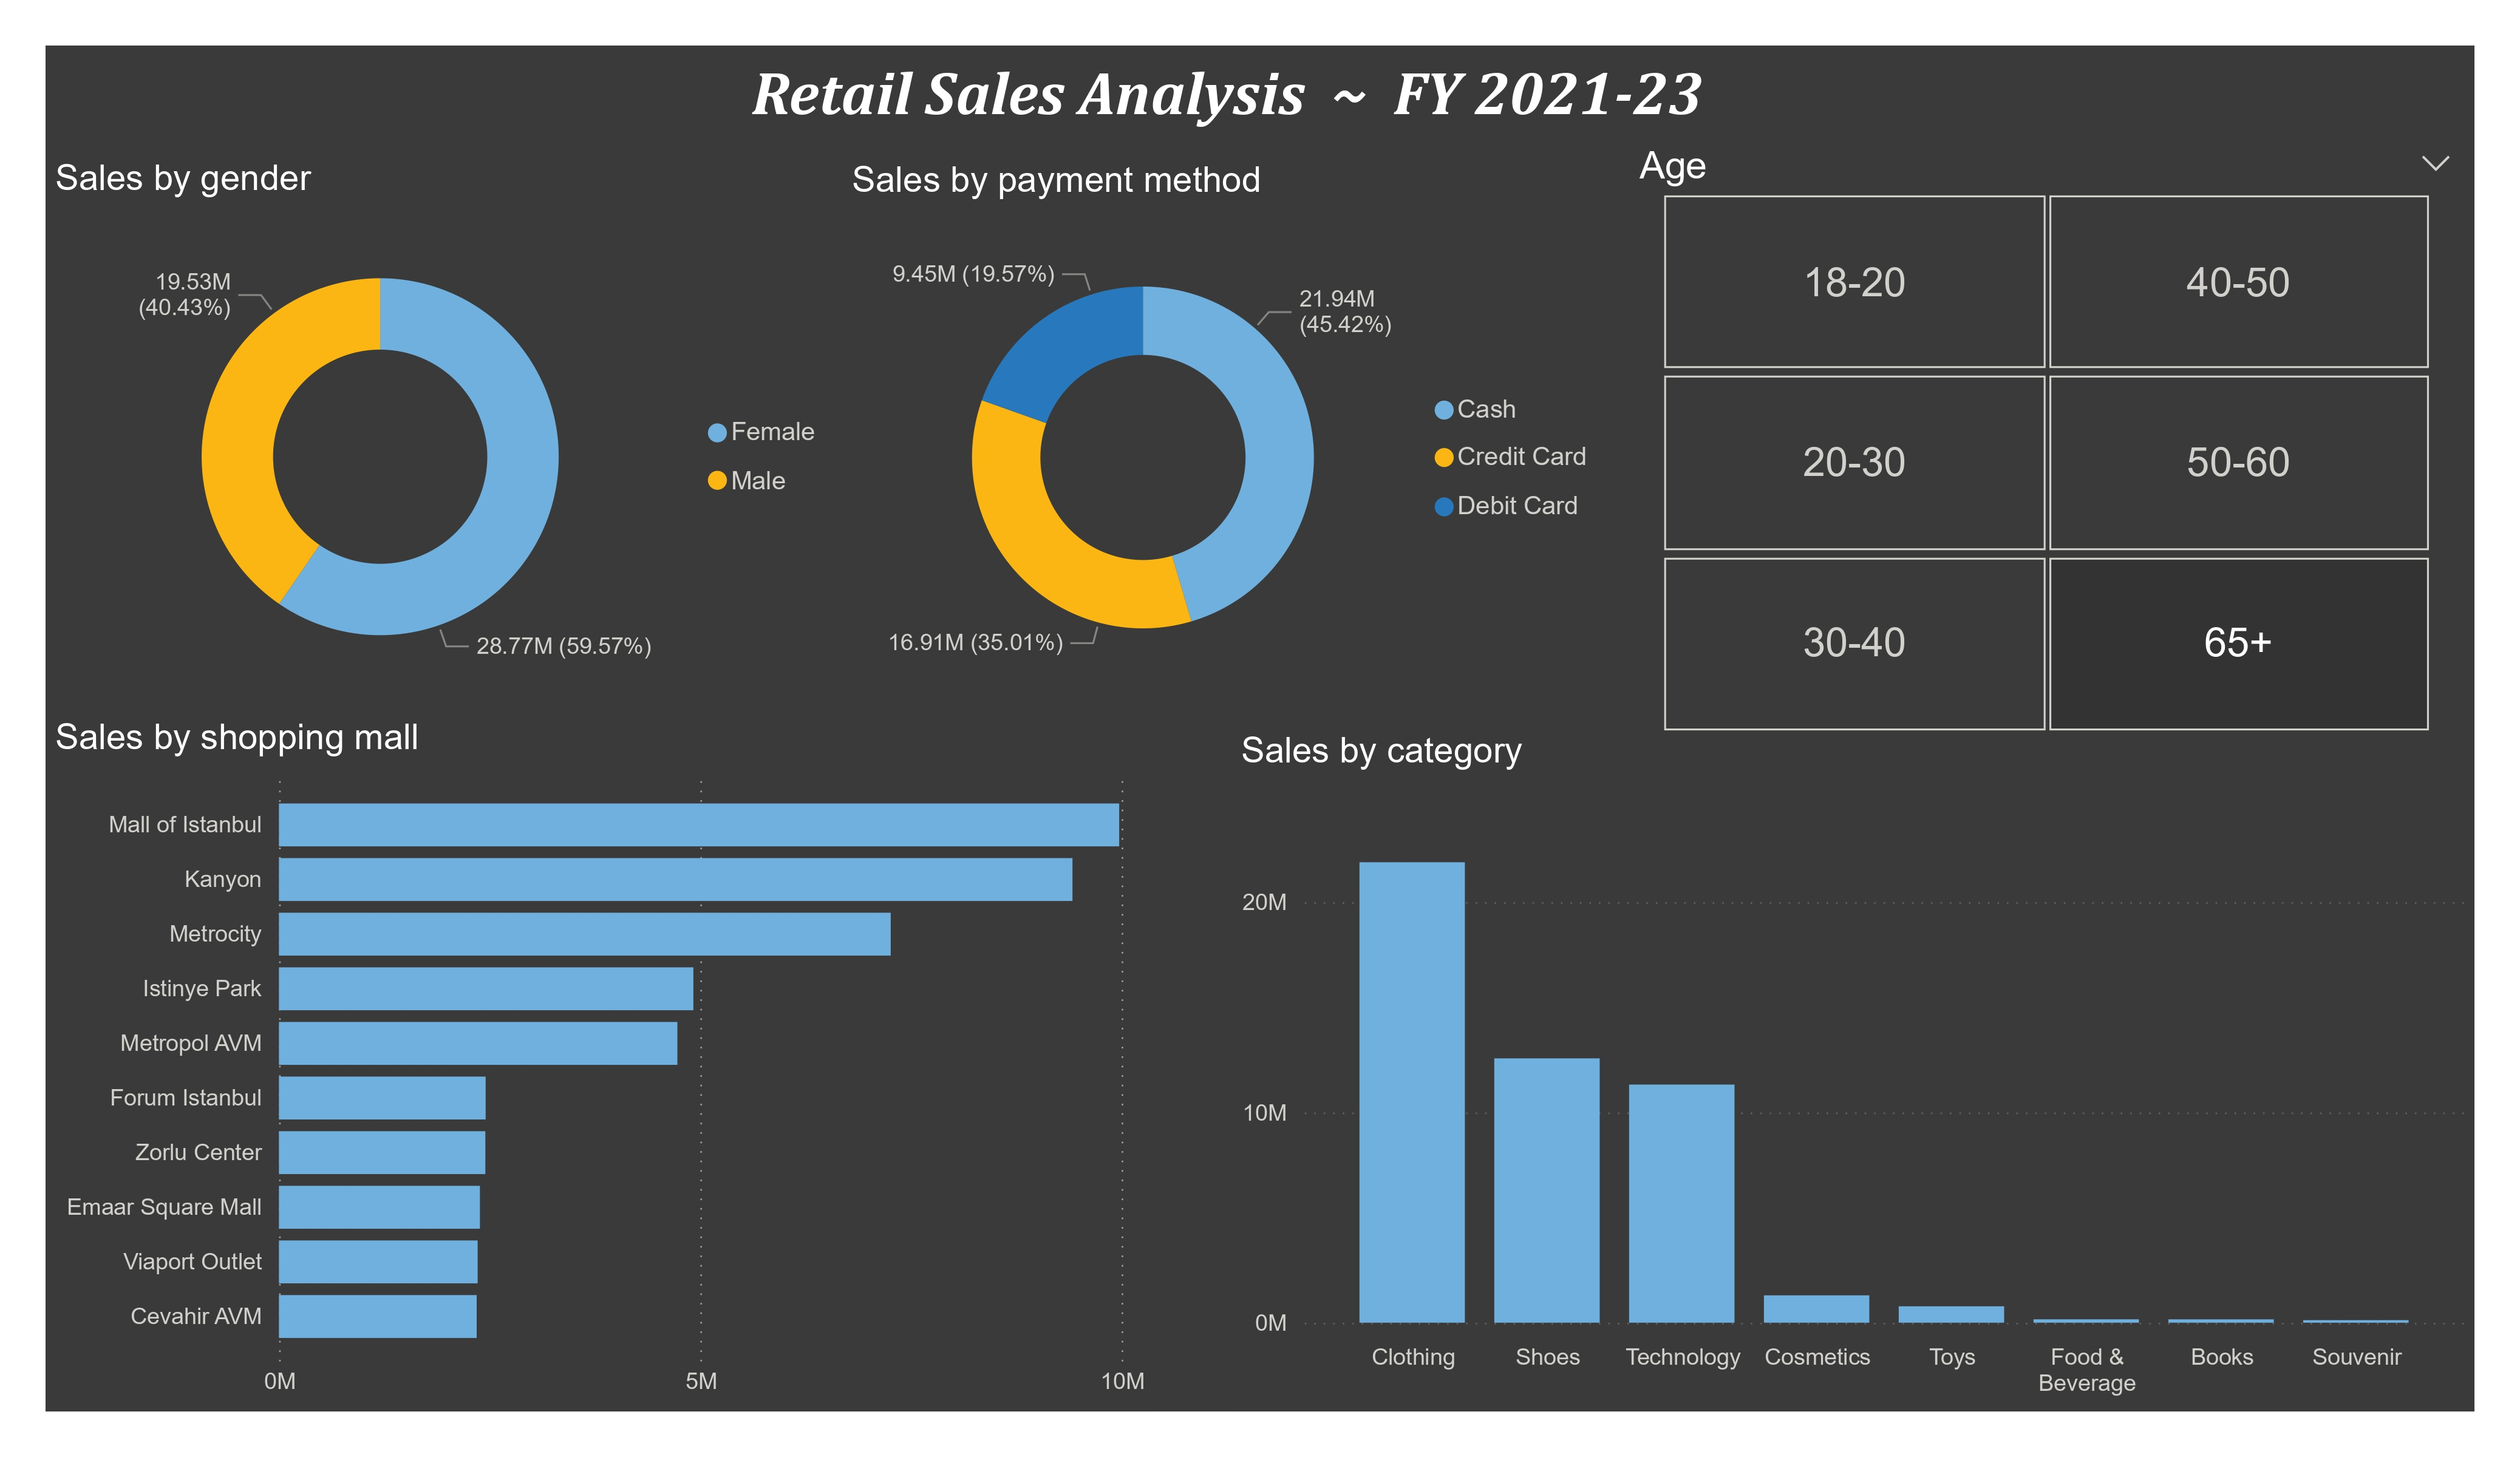

Layout of this report page (visuals, bound fields, positions):
{"tool":"powerbi","page":{"name":"Sales - Categorical","canvas":[1280,720],"ordinal":0},"visuals":[{"type":"barChart","title":"Sales by shopping mall","fields":{"Y":["Sum(Retail.sales)"],"Category":["Retail.shopping_mall"]},"box":[0,353.9,584.1,365.7],"z":0},{"type":"donutChart","title":"Sales by payment method","fields":{"Category":["Retail.payment_method"],"Y":["Sum(Retail.sales)"]},"box":[419.7,60.3,407.6,293.1],"z":1000},{"type":"columnChart","title":"Sales by category","fields":{"Category":["Retail.category"],"Y":["Sum(Retail.sales)"]},"box":[624.8,360.6,655.2,358.9],"z":2000},{"type":"slicer","fields":{"Values":["Retail.age_distribution"]},"box":[827.3,47,452.3,320.8],"z":3000},{"type":"donutChart","fields":{"Category":["Retail.gender"],"Y":["Sum(Retail.sales)"]},"box":[0,59.1,419.7,294.3],"z":4000},{"type":"textbox","box":[366.6,1.2,547.5,59.1],"z":5000}]}

Visuals, with their boxes on the page's 1280x720 design canvas (x1, y1, x2, y2). These are canvas units, not pixel positions in the 2520x1457 screenshot, which may show the page scaled, cropped or inside an application window:
"Sales by shopping mall" barChart: 0 354 584 720
"Sales by payment method" donutChart: 420 60 827 353
"Sales by category" columnChart: 625 361 1280 720
slicer - Retail.age_distribution: 827 47 1280 368
donutChart - Retail.gender x Sum(Retail.sales): 0 59 420 353
textbox: 367 1 914 60
